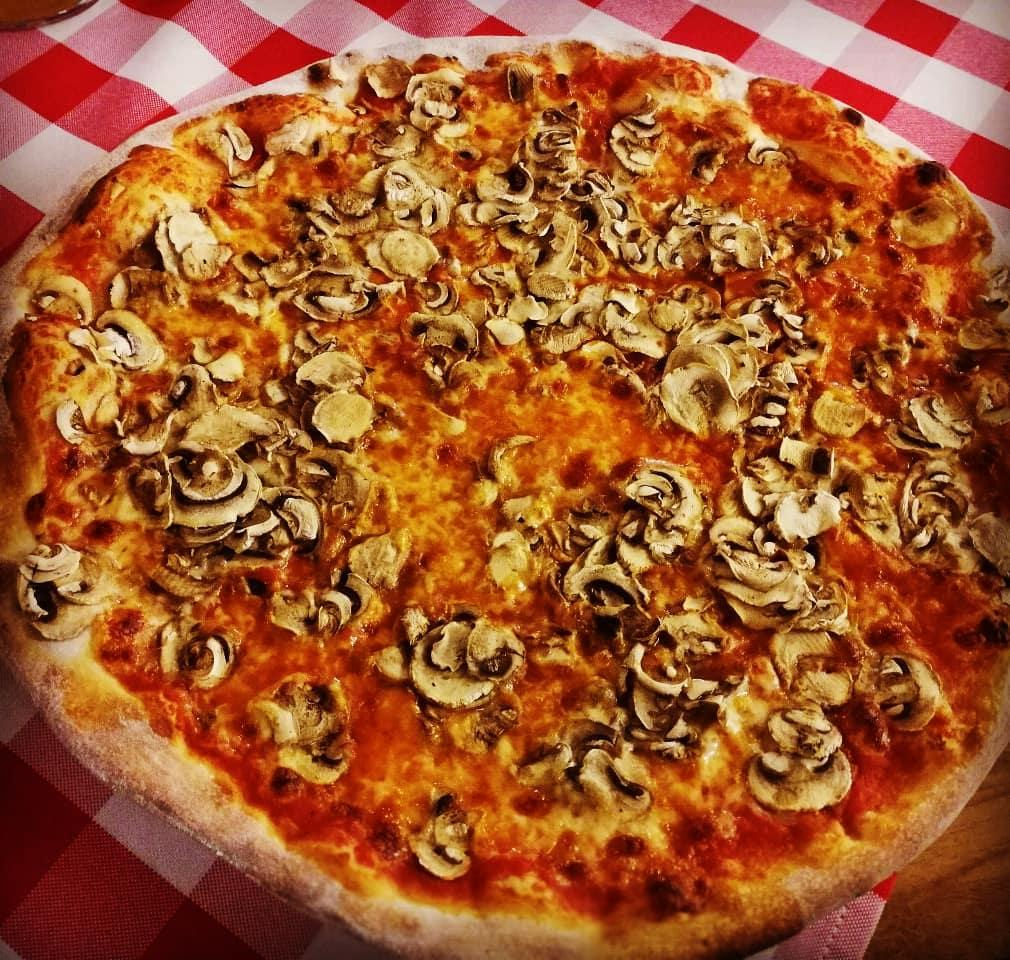Mushroom: (769, 621, 931, 734), (669, 317, 764, 431), (16, 541, 115, 645), (711, 515, 814, 604), (612, 647, 714, 736), (256, 681, 346, 780), (756, 704, 841, 808), (567, 281, 673, 360), (750, 321, 817, 433), (406, 619, 489, 704), (566, 521, 640, 615), (671, 201, 764, 275), (894, 461, 973, 545), (454, 164, 537, 240), (149, 467, 258, 521), (626, 464, 691, 554), (341, 535, 401, 629), (396, 66, 474, 138), (509, 112, 581, 188), (156, 207, 227, 284), (497, 217, 584, 276), (479, 261, 544, 339), (524, 274, 586, 354), (237, 244, 332, 296), (286, 387, 375, 442), (419, 314, 481, 390), (897, 394, 974, 453), (156, 621, 228, 684), (242, 441, 334, 489), (736, 454, 797, 525), (542, 712, 613, 773), (91, 307, 156, 373), (759, 221, 838, 275), (271, 577, 351, 630), (216, 117, 271, 194), (592, 207, 658, 271), (299, 276, 377, 330), (359, 164, 431, 221), (309, 202, 368, 271), (577, 754, 640, 817), (181, 399, 269, 444), (719, 597, 840, 629), (449, 617, 513, 675), (359, 227, 436, 275), (176, 444, 242, 500), (609, 111, 666, 175), (767, 427, 840, 476), (169, 517, 280, 549), (289, 344, 364, 391), (806, 386, 868, 442), (772, 486, 835, 540), (416, 811, 466, 879), (561, 171, 623, 220), (166, 361, 215, 421), (489, 517, 531, 584), (659, 607, 725, 649), (666, 284, 718, 331), (109, 416, 175, 453), (39, 277, 96, 319), (281, 114, 335, 156), (269, 492, 317, 539), (727, 294, 798, 324), (501, 62, 538, 113), (54, 397, 88, 443), (742, 137, 784, 163), (376, 137, 414, 164), (206, 351, 241, 380), (416, 277, 449, 307)
Pizza: (0, 42, 1010, 960)
